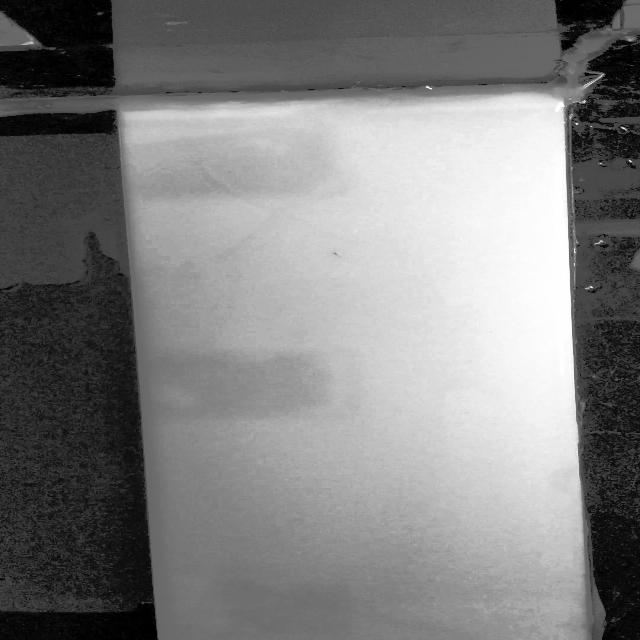shrimp: (322, 246, 355, 264)
